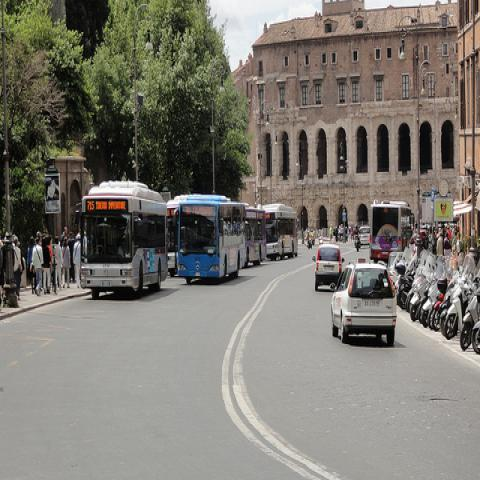bus: (72, 181, 168, 300), (174, 202, 248, 285), (370, 202, 415, 262), (266, 206, 299, 258), (247, 209, 267, 266)
car: (331, 261, 397, 345), (312, 246, 345, 290), (359, 226, 370, 248)
motorcycle: (444, 254, 476, 334), (394, 248, 428, 311), (460, 257, 480, 350), (410, 254, 436, 322), (439, 270, 460, 336), (420, 278, 438, 331), (431, 277, 447, 332), (472, 320, 479, 356), (354, 234, 360, 252)
